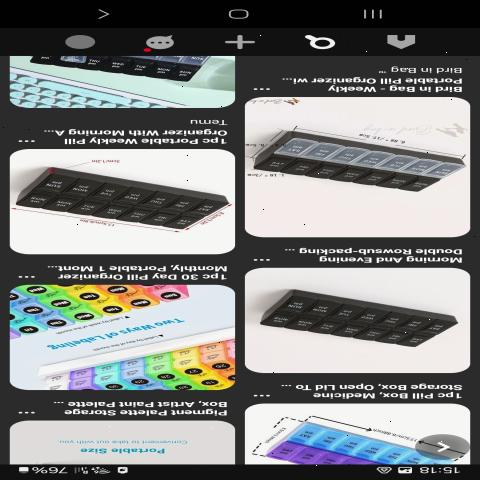PillBox: (257, 114, 469, 201), (248, 278, 466, 359), (9, 158, 226, 236)
